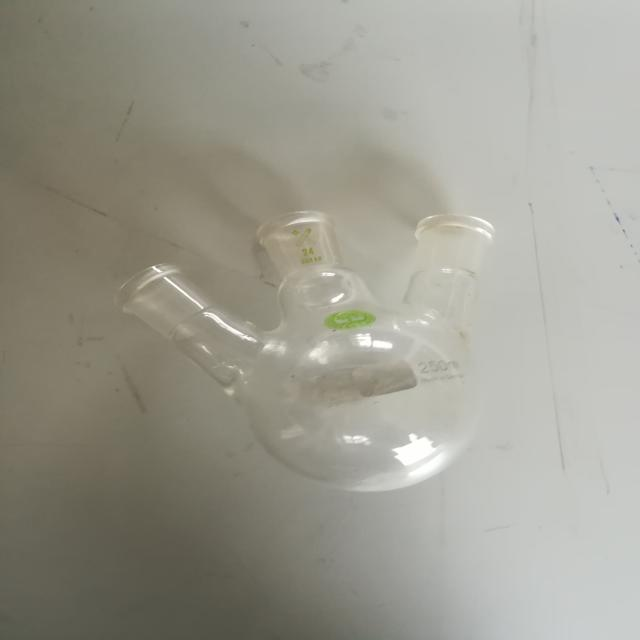Round_Bottom_Flask_Borosilicate_Glass_3_Neck: (89, 194, 542, 528)
